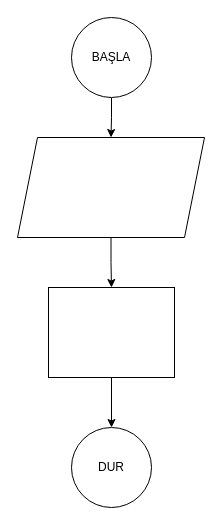
The diagram is 222 pixels wide and 525 high, and some of its shapes have lost their labels. Each missing label, with the centre of its shape:
"2015 de 7,2020 de 10 yaşında öğrenci gezideler. ilk grup=2.grup+10" belongs at point 110,187.
"7x+5=10x-100 x=35 10x-100 1*35-100= 250" belongs at point 111,332.
